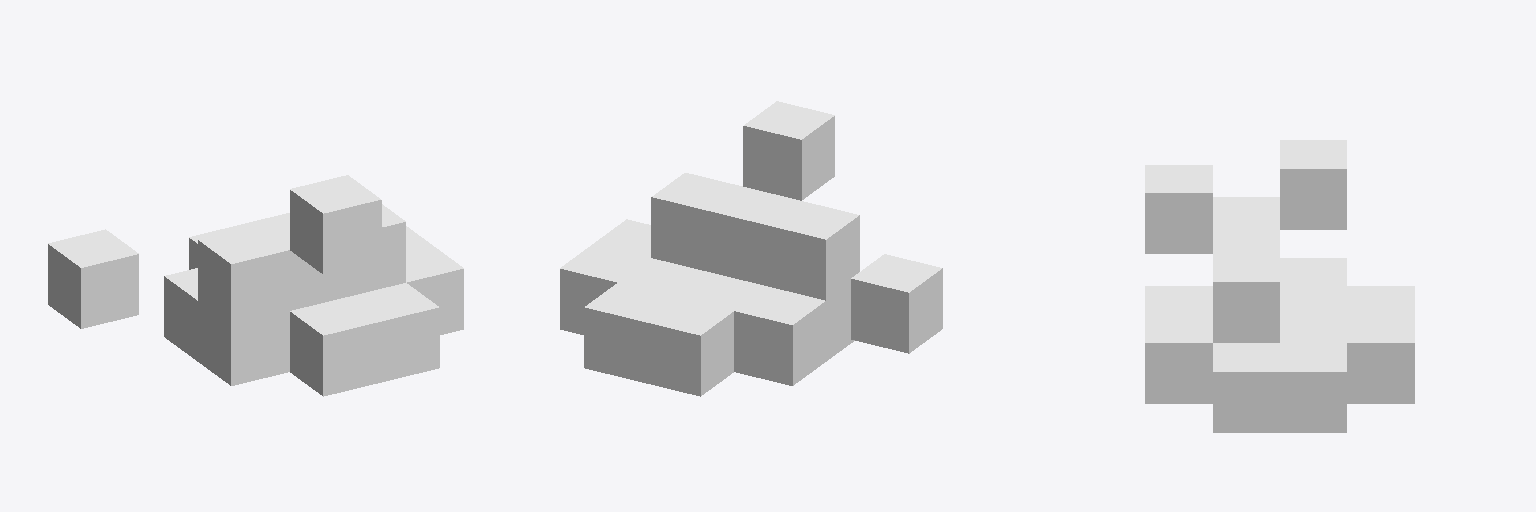
Rendered from plant_tomato_f8.vox.png.obj.
3 views of the same model, side by side, from view 1: azimuth 30°, elevation 25°; view 2: azimuth 150°, elevation 25°; view 3: azimuth 270°, elevation 25° (orthographic).
Visible parts, largest first — view 1: object 1; view 2: object 1; view 3: object 1.
Boxes of the visible parts, <box> form: object 1: <box>48,175,463,396</box>; object 1: <box>560,101,942,396</box>; object 1: <box>1145,140,1414,432</box>.
Bounding box in the file's own units: 0.6 × 0.3 × 0.4.